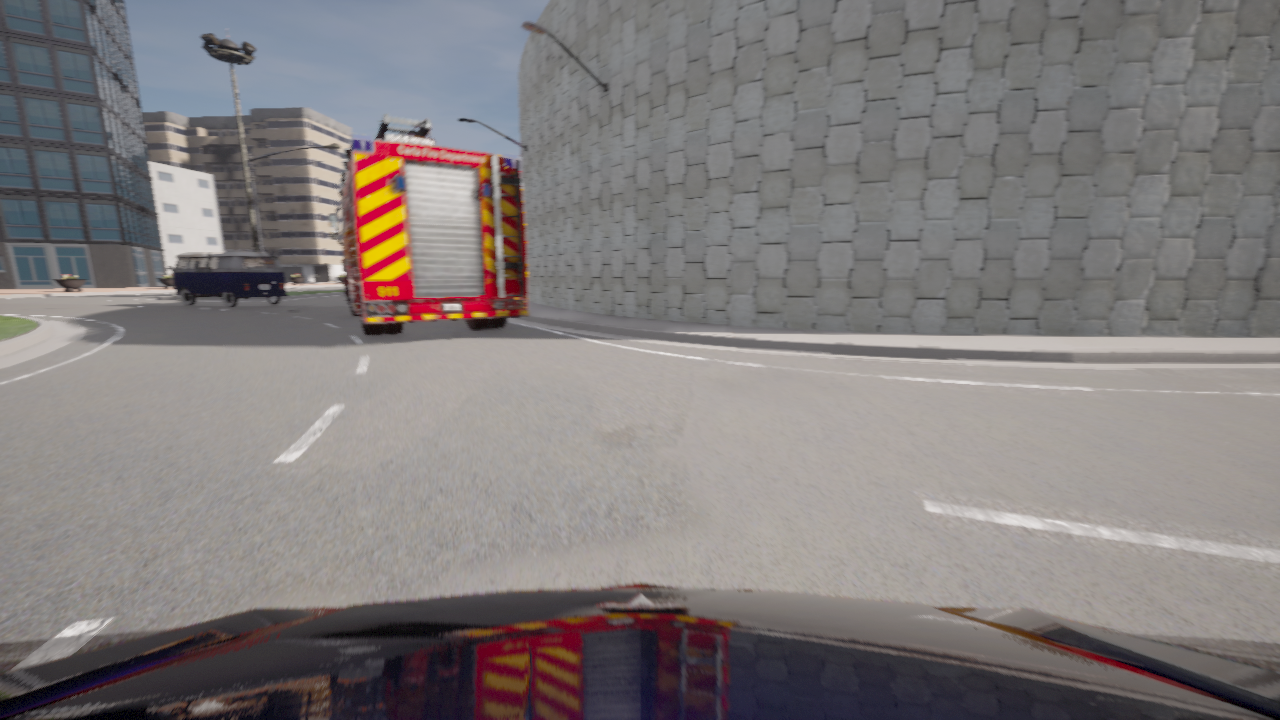cyclist: (0, 584, 1279, 719), (327, 113, 528, 336), (168, 252, 287, 307)
